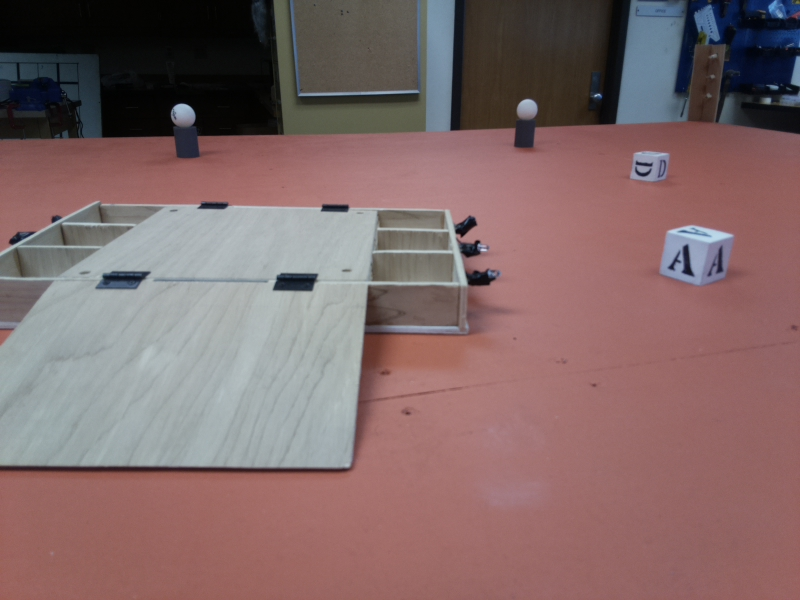blockA: (656, 223, 737, 288)
blockD: (629, 148, 674, 183)
corner: (688, 43, 729, 124)
obstacle: (168, 96, 203, 165), (509, 95, 543, 157)
side: (384, 204, 497, 339)
slope: (15, 266, 370, 487)
